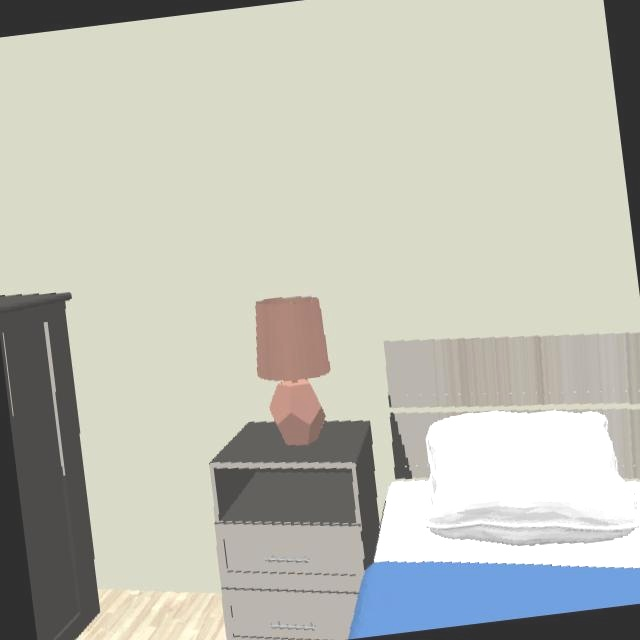bed: (348, 331, 640, 639)
lamp: (254, 296, 332, 446)
nighttable: (208, 423, 378, 640)
pillow: (417, 409, 640, 565)
